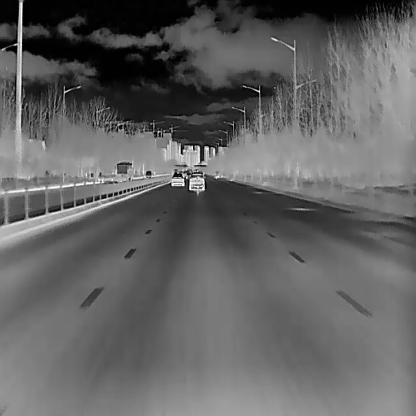bus: (113, 159, 134, 182)
car: (188, 171, 204, 191), (170, 172, 184, 186), (144, 169, 152, 179), (213, 170, 219, 178)
